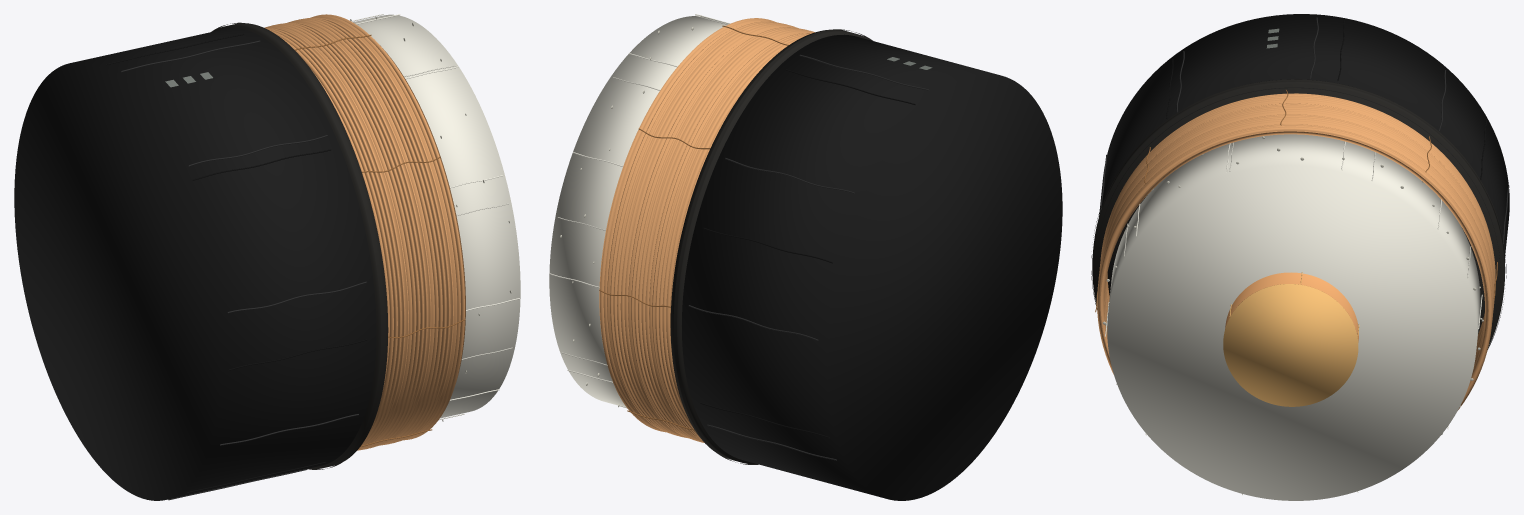
Rendered from rf-ldf6-macro.glb.
The picture shows the model from 3 angles, left to right: view 1: azimuth 30°, elevation 25°; view 2: azimuth 150°, elevation 25°; view 3: azimuth 270°, elevation 25°; orthographic projection. The views are drawn at different scales.
Parts seen in each view (by area): view 1: macro hardline jacket body, annular corrugated solid shield, macro foam dielectric exposed core, hardline jacket cut wall, rounded jacket cut lip; view 2: macro hardline jacket body, annular corrugated solid shield, macro foam dielectric exposed core, hardline jacket cut wall, rounded jacket cut lip; view 3: macro foam dielectric exposed core, macro hardline jacket body, annular corrugated solid shield, polished conductor cut face glow, hardline jacket cut wall, polished solid center conductor, rounded jacket cut lip, inner jacket shadow bevel.
Part boxes in pixels (bbox=[...]): macro hardline jacket body: bbox=[14, 28, 376, 500]; annular corrugated solid shield: bbox=[264, 14, 465, 450]; macro foam dielectric exposed core: bbox=[353, 14, 520, 418]; hardline jacket cut wall: bbox=[212, 23, 388, 469]; rounded jacket cut lip: bbox=[211, 22, 384, 469]; macro hardline jacket body: bbox=[682, 34, 1062, 500]; annular corrugated solid shield: bbox=[599, 18, 814, 442]; macro foam dielectric exposed core: bbox=[549, 16, 728, 407]; hardline jacket cut wall: bbox=[670, 29, 871, 464]; rounded jacket cut lip: bbox=[673, 29, 872, 464]; macro foam dielectric exposed core: bbox=[1107, 134, 1480, 500]; macro hardline jacket body: bbox=[1099, 14, 1509, 258]; annular corrugated solid shield: bbox=[1097, 93, 1495, 409]; polished conductor cut face glow: bbox=[1223, 284, 1358, 406]; hardline jacket cut wall: bbox=[1092, 79, 1505, 347]; polished solid center conductor: bbox=[1225, 272, 1358, 342]; rounded jacket cut lip: bbox=[1091, 79, 1506, 349]; inner jacket shadow bevel: bbox=[1096, 87, 1500, 287].
Size of the model in its own units: 6.65 by 7.7 by 7.76.
